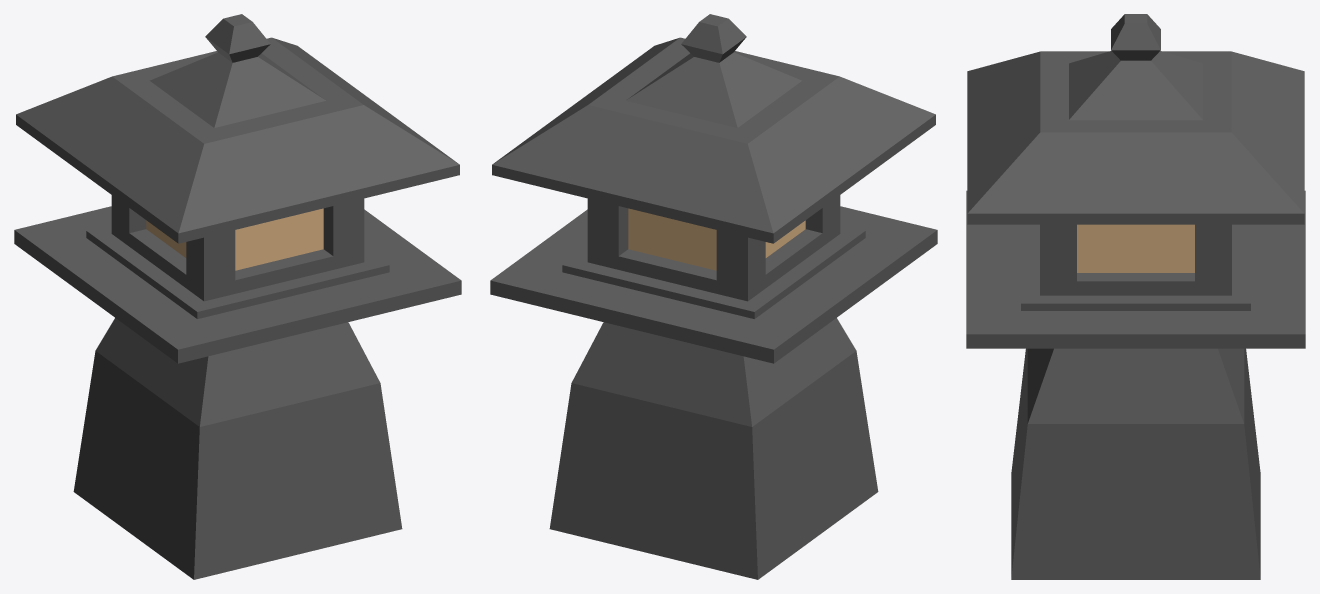
File: lamp.glb
The picture shows the model from 3 angles, left to right: view 1: azimuth 30°, elevation 25°; view 2: azimuth 150°, elevation 25°; view 3: azimuth 270°, elevation 25°; orthographic projection. The views are drawn at different scales.
Parts seen in each view (by area): view 1: Cube, Cube.001; view 2: Cube, Cube.001; view 3: Cube, Cube.001.
Boxes of the visible parts, <box> form: Cube: <box>14,14,461,579</box>; Cube.001: <box>146,208,323,270</box>; Cube: <box>490,14,937,579</box>; Cube.001: <box>628,208,805,270</box>; Cube: <box>966,14,1305,579</box>; Cube.001: <box>1077,224,1194,272</box>.
Bounding box in the file's own units: 2.72 × 4.5 × 2.72.
